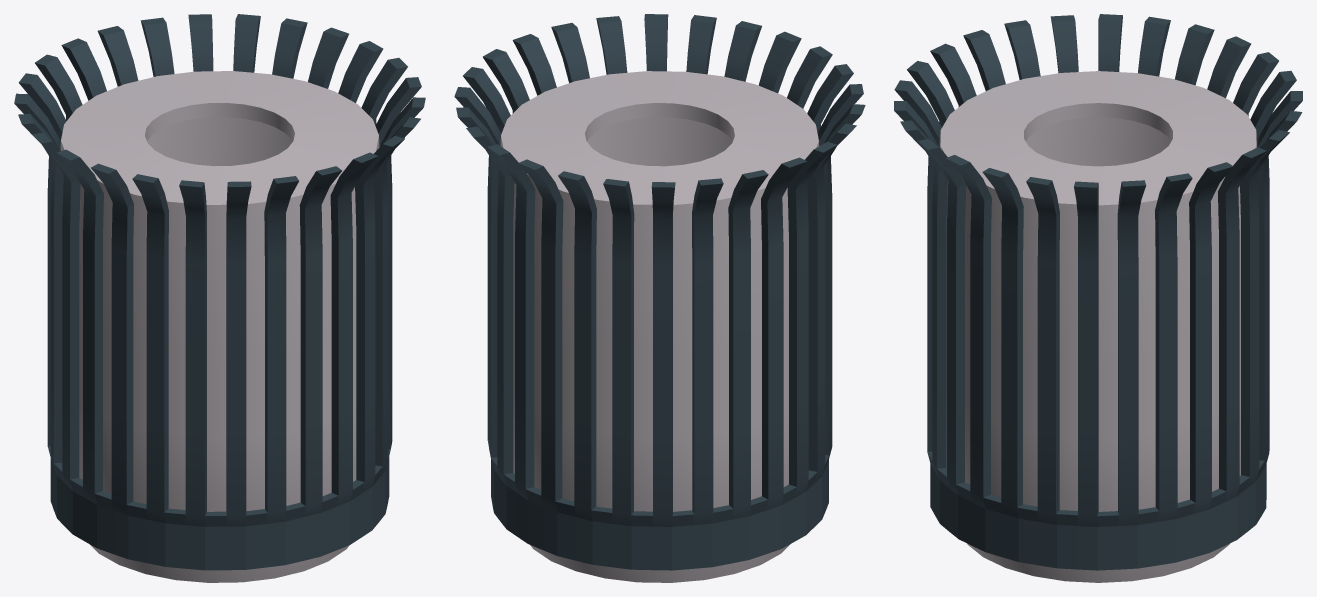
Rendered from P_poubelle.fbx.
3 renders of one model, left to right at view 1: azimuth 30°, elevation 25°; view 2: azimuth 150°, elevation 25°; view 3: azimuth 270°, elevation 25°, orthographic.
Parts seen in each view (by area): view 1: Cylinder001; view 2: Cylinder001; view 3: Cylinder001.
Part boxes in pixels (box(x1,y1,x2,y2)): Cylinder001: box(14, 14, 425, 582); Cylinder001: box(454, 14, 865, 582); Cylinder001: box(894, 14, 1302, 582).
Size of the model in its own units: 28.38 by 32.46 by 28.2.
